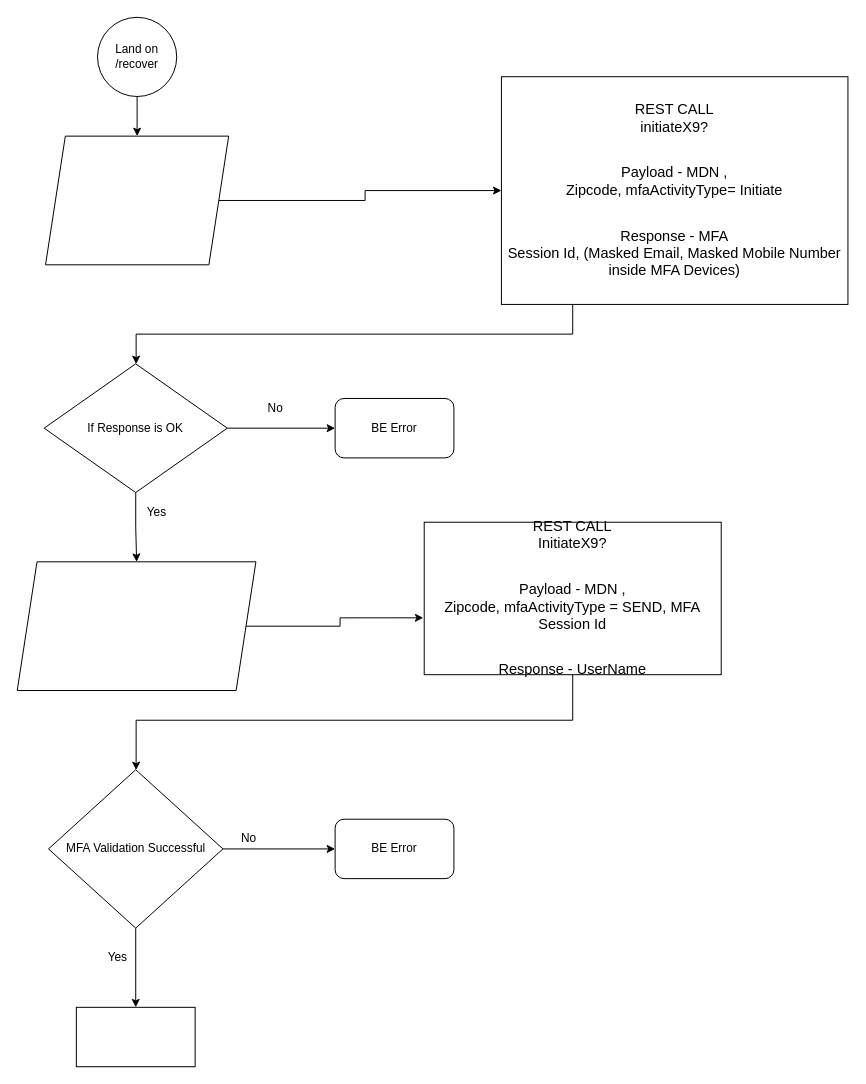
This 866x1084 diagram has some shape labels left out. Each missing label, with the centre of its shape:
Screen #1 Enter MEID/MDN and Billing ZipCode: (137,200)
Screen #2 MFA Validation/ Send Passcode on Masked Email: (136,626)
Screen #3 Present Username: (135,1036)
